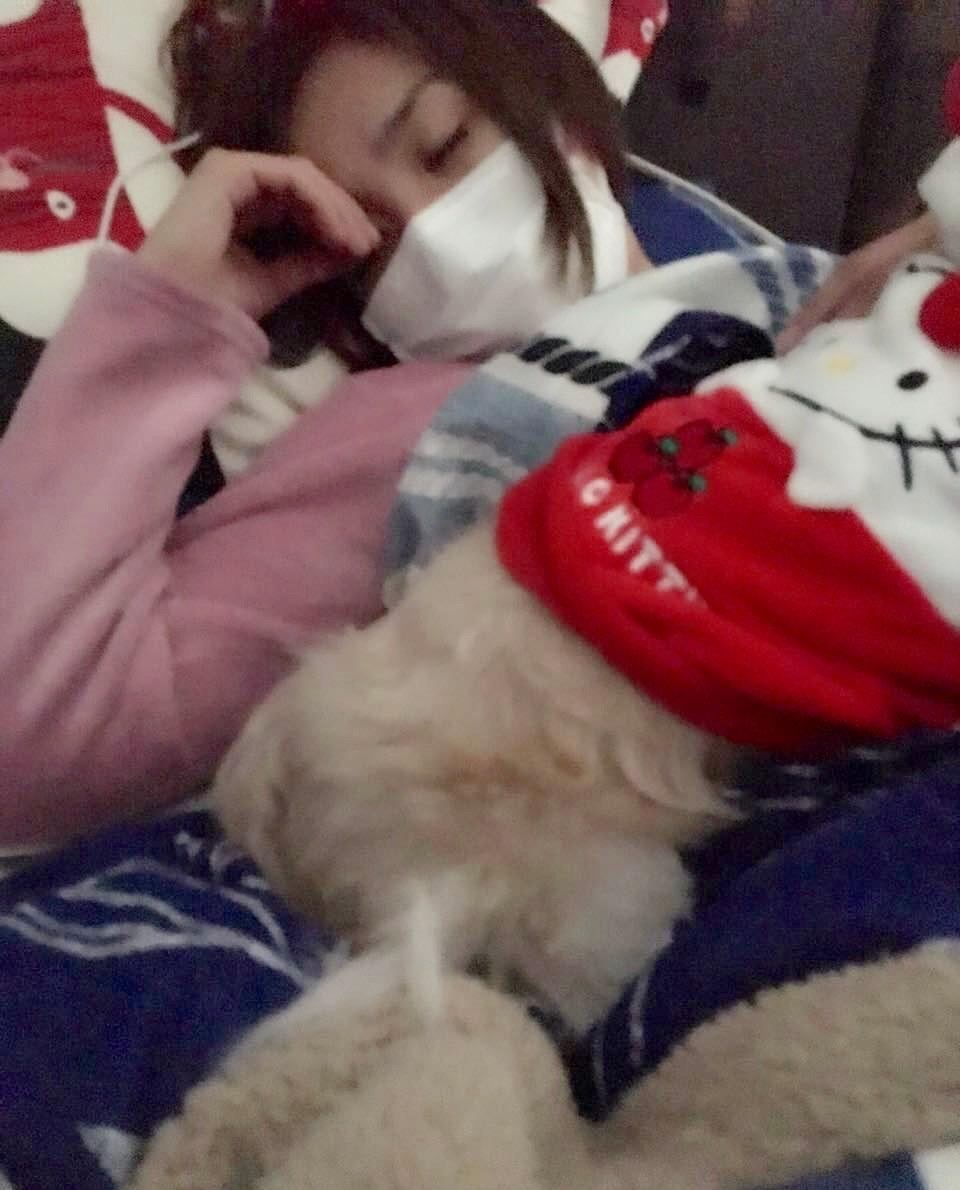OK: (294, 63, 598, 367)
